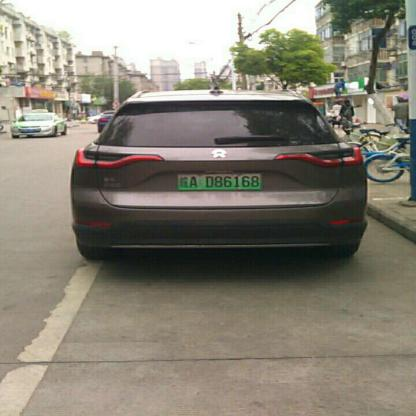lp: (176, 172, 261, 191)
